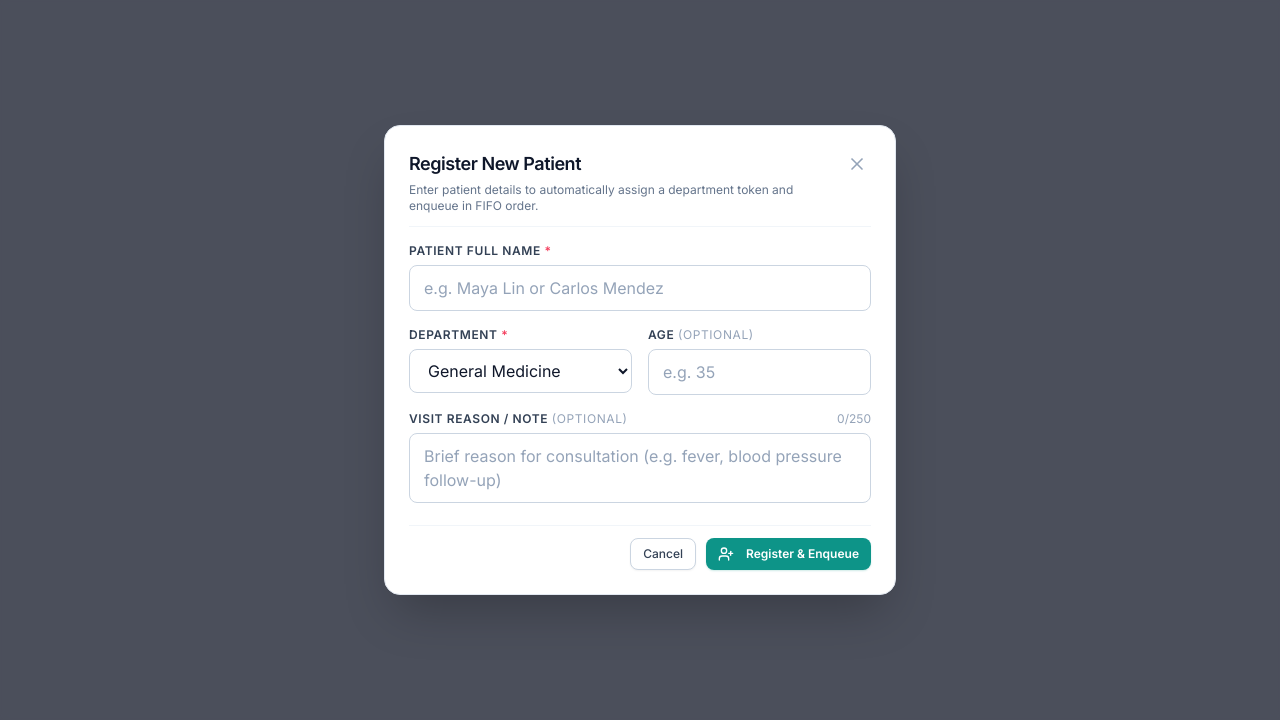
Test: RegisterPatientDialog Component › submits valid patient data and displays assigned token on success
The width and height of the screenshot is (1280, 720).
Type "Aarav Sharma" into the field with placeholder "e.g. Maya Lin or Carlos Mendez".
click(640, 288); type("Aarav Sharma")  # box [409, 265, 871, 311]
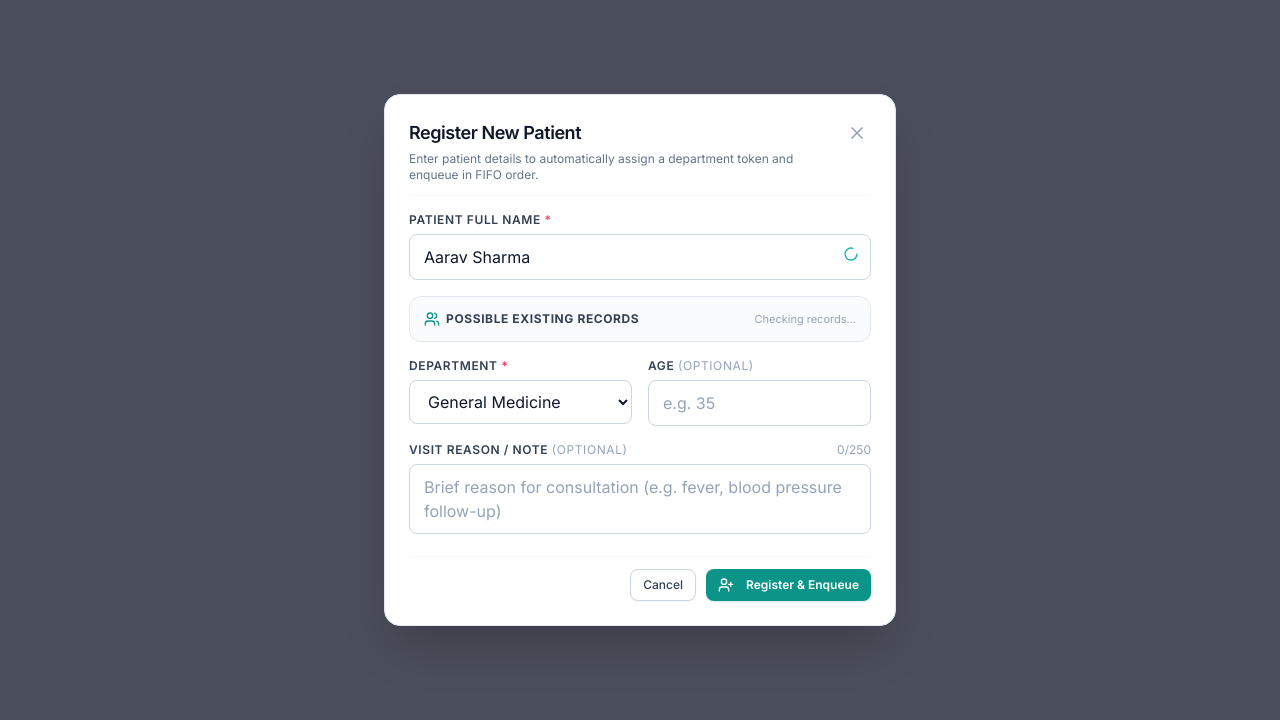
Click the button "Register & Enqueue".
click(788, 585)  # box [706, 569, 871, 601]
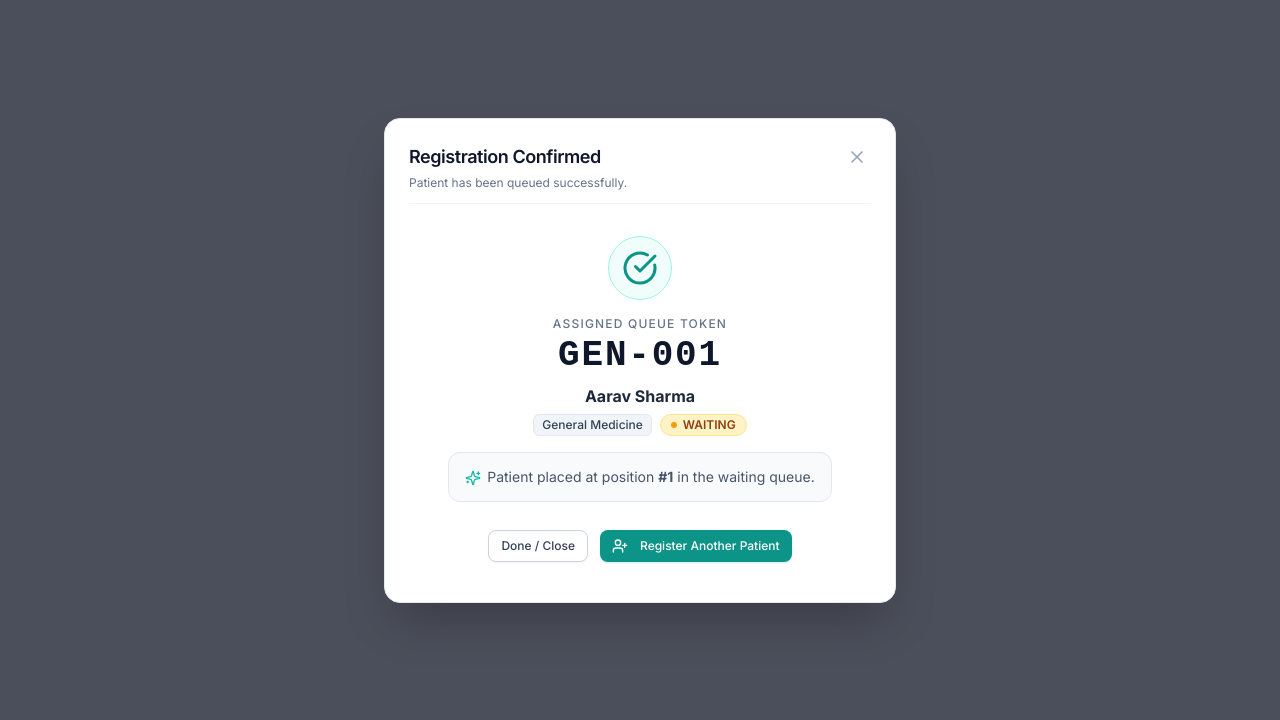
Expected: the heading "Registration Confirmed" is shown, [409, 142, 627, 170]
Expected: the text "GEN-001" is shown, [558, 334, 722, 376]
